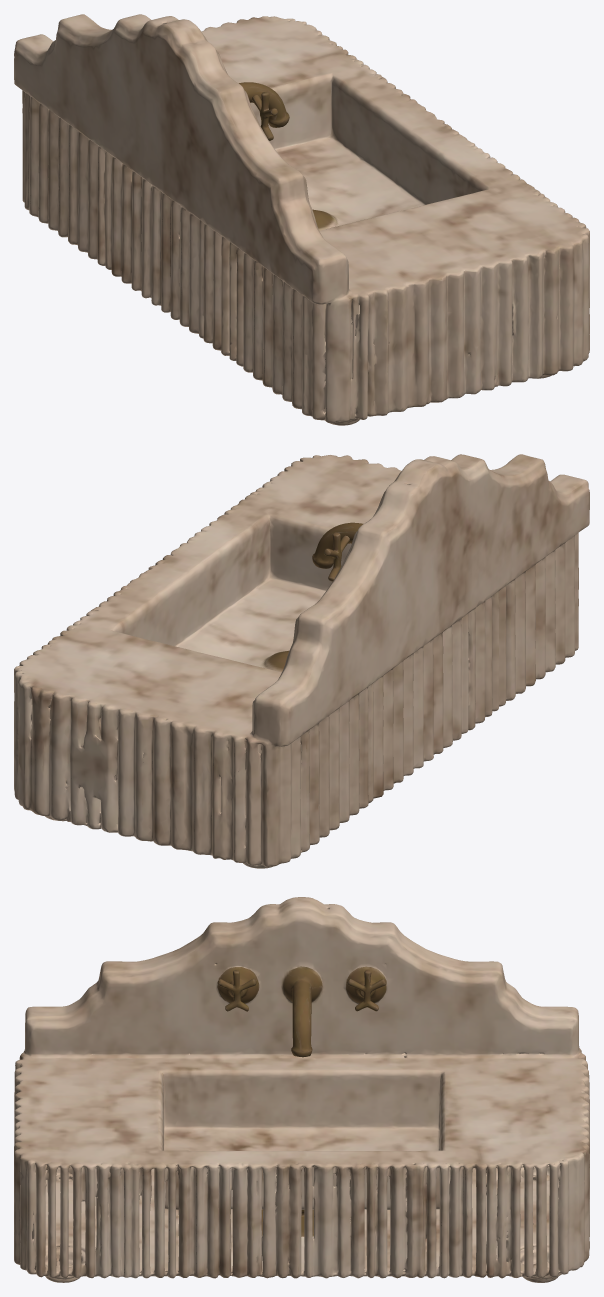
File: sink_001.glb
The picture shows the model from 3 angles, top to bottom: view 1: azimuth 30°, elevation 25°; view 2: azimuth 150°, elevation 25°; view 3: azimuth 270°, elevation 25°; orthographic projection. The views are drawn at different scales.
Visible parts, largest first — view 1: world; view 2: world; view 3: world.
Part boxes in pixels (x1,y1,x2,y2): world: [14, 14, 589, 425]; world: [14, 454, 589, 868]; world: [14, 897, 589, 1282].
Size of the model in its own units: 0.5194 by 0.53 by 1.
1 material, 1 textured.
